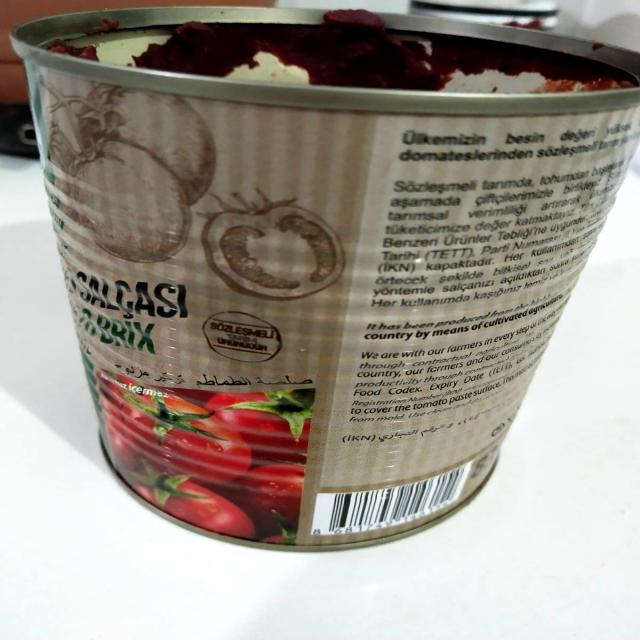tomato paste: (18, 0, 640, 576)
